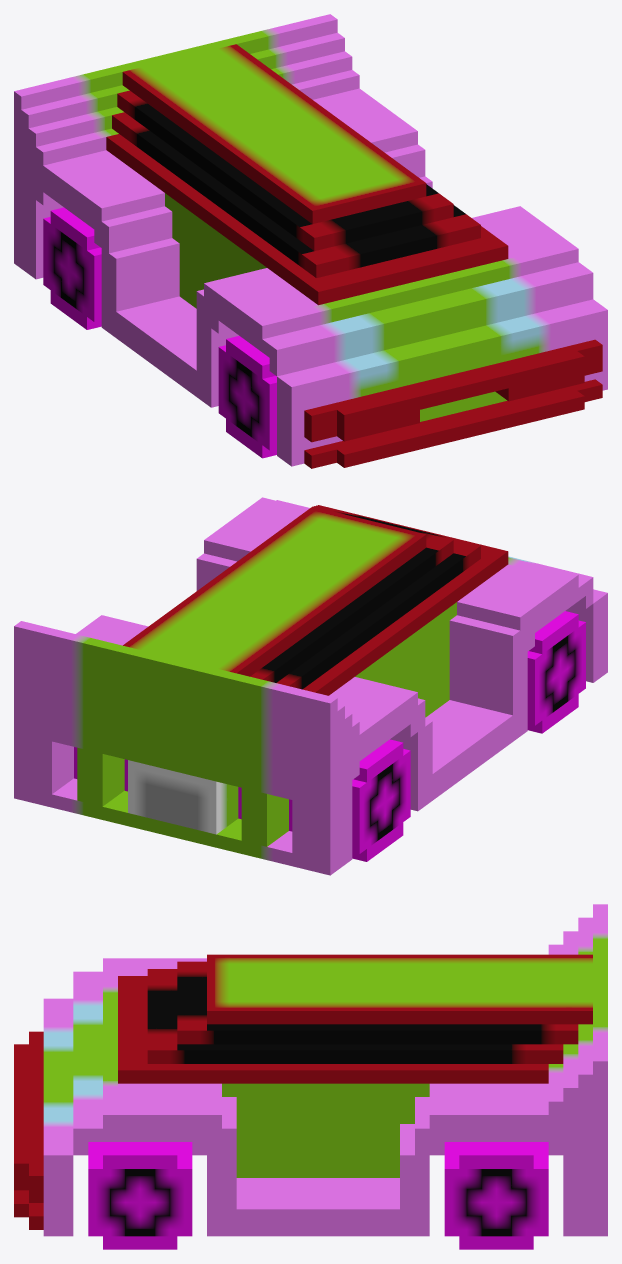
The model's file is Car_31.fbx.
3 renders of one model, top to bottom at view 1: azimuth 30°, elevation 25°; view 2: azimuth 150°, elevation 25°; view 3: azimuth 270°, elevation 25°, orthographic.
Visible parts, largest first — view 1: Car_31; view 2: Car_31; view 3: Car_31.
Part boxes in pixels (x1,y1,x2,y2): Car_31: (14,14,607,468); Car_31: (14,497,607,875); Car_31: (14,904,607,1249).
Bounding box in the file's own units: 25 × 14 × 40.
1 material, 1 textured.
